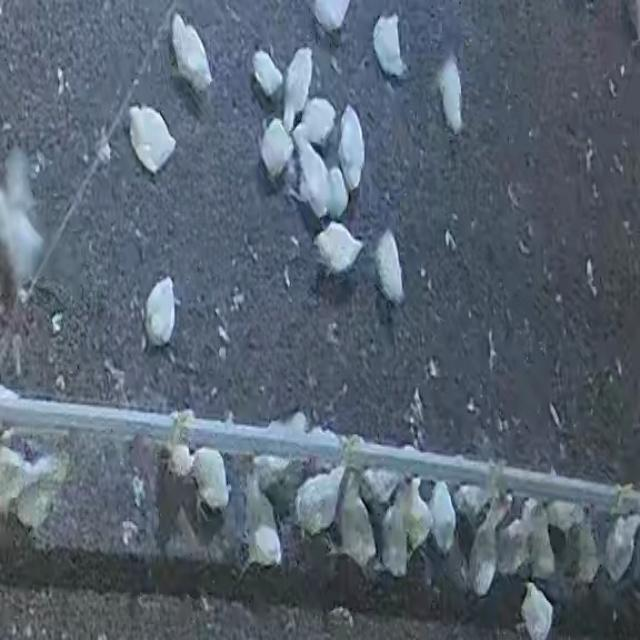chicken: (238, 471, 288, 583), (126, 96, 180, 182), (465, 490, 507, 596), (338, 468, 378, 576), (169, 11, 214, 92), (293, 132, 332, 218), (294, 468, 344, 534), (140, 272, 180, 353), (378, 480, 410, 576), (313, 220, 364, 276), (492, 502, 530, 577), (282, 46, 314, 129), (518, 577, 560, 640), (338, 101, 368, 188), (602, 510, 638, 582), (523, 498, 555, 578), (399, 477, 433, 552), (374, 227, 405, 304), (259, 116, 295, 182), (372, 12, 407, 78), (428, 478, 457, 554), (570, 517, 600, 584), (438, 55, 464, 132), (299, 96, 336, 146), (251, 48, 284, 101), (327, 163, 352, 217)
